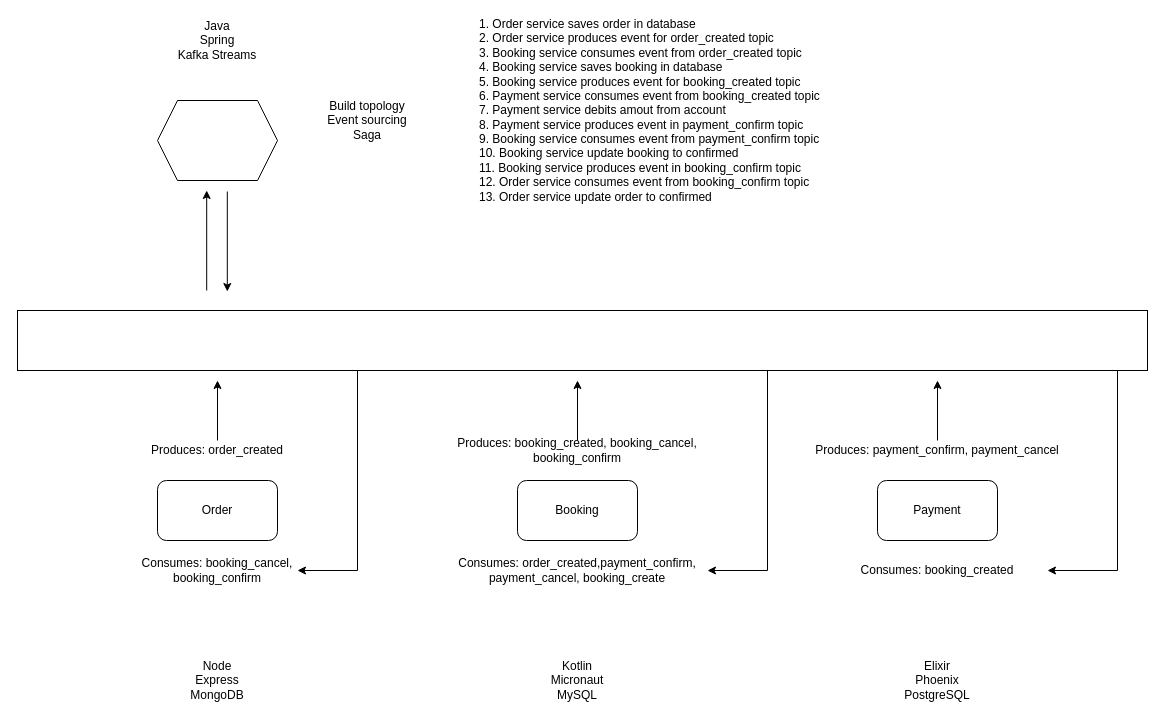
Some shapes in this 1173 by 719 pixel diagram are drawn without their labels. The shapes that lost their labels are listed below. From the top down, each one's centre as x and y in pixels, then its label:
At (217,140): "Orchestrator".
At (582,340): "Kafka Broker".
